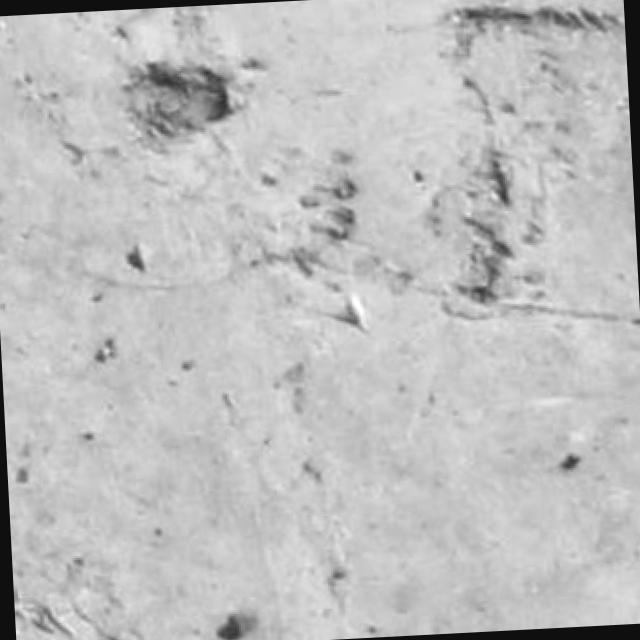crack: (125, 65, 232, 148), (448, 6, 625, 48), (458, 219, 511, 307), (492, 152, 510, 207)
